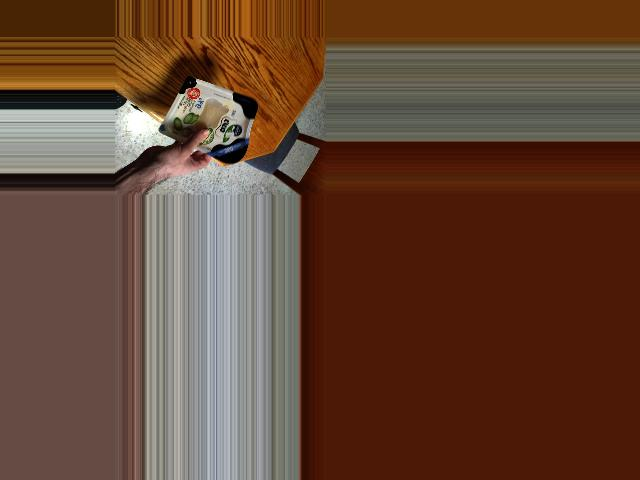cheese: (175, 80, 262, 160)
